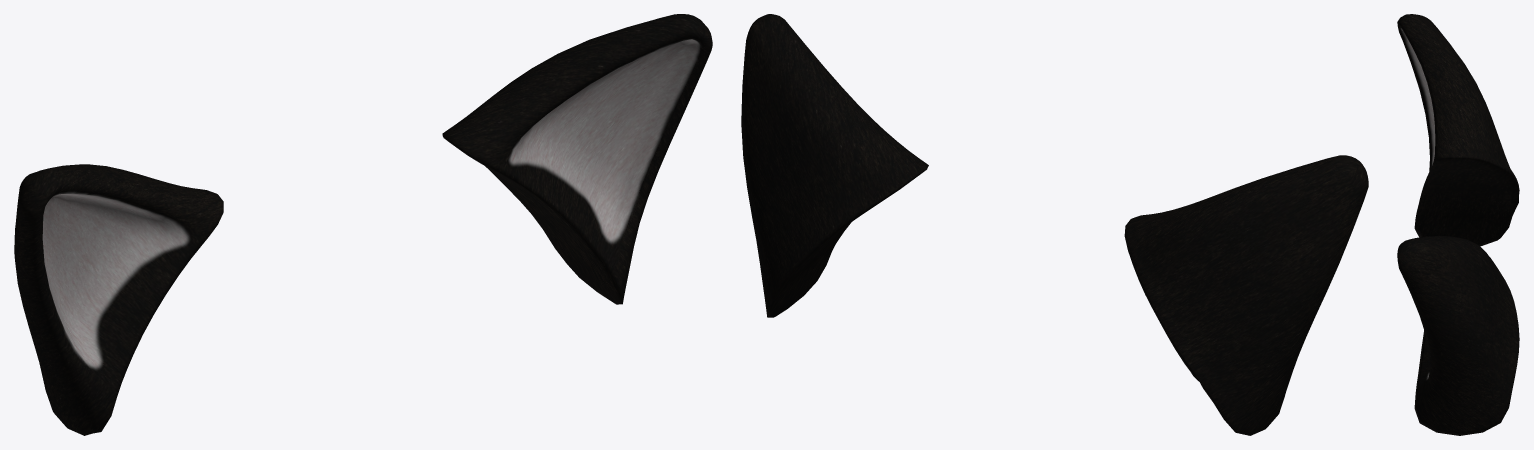
The model's file is catEars.glb.
The picture shows the model from 3 angles, left to right: view 1: azimuth 30°, elevation 25°; view 2: azimuth 150°, elevation 25°; view 3: azimuth 270°, elevation 25°; orthographic projection. The views are drawn at different scales.
Parts seen in each view (by area): view 1: catEars_toSend; view 2: catEars_toSend; view 3: catEars_toSend.
Part boxes in pixels (bbox=[...]): catEars_toSend: bbox=[14, 14, 712, 435]; catEars_toSend: bbox=[741, 14, 1368, 435]; catEars_toSend: bbox=[1397, 14, 1519, 435].
Bounding box in the file's own units: 0.3592 × 0.1469 × 0.0759.
Materials: 1 (1 with a texture image).
